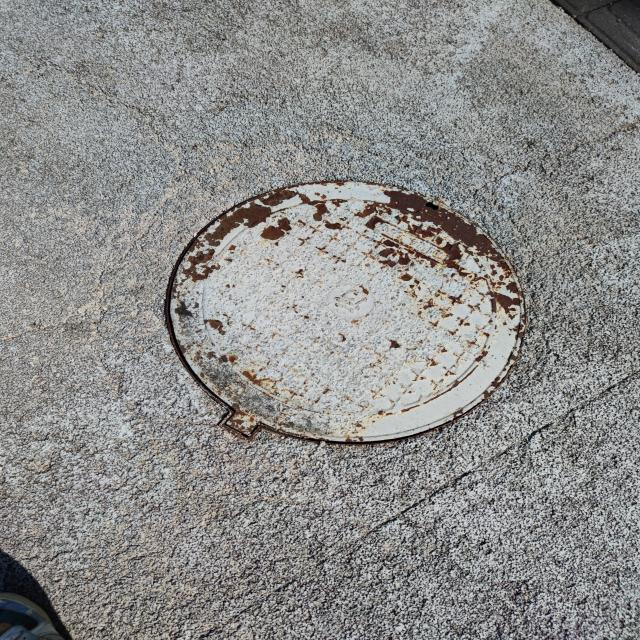Good: (158, 173, 535, 450)
